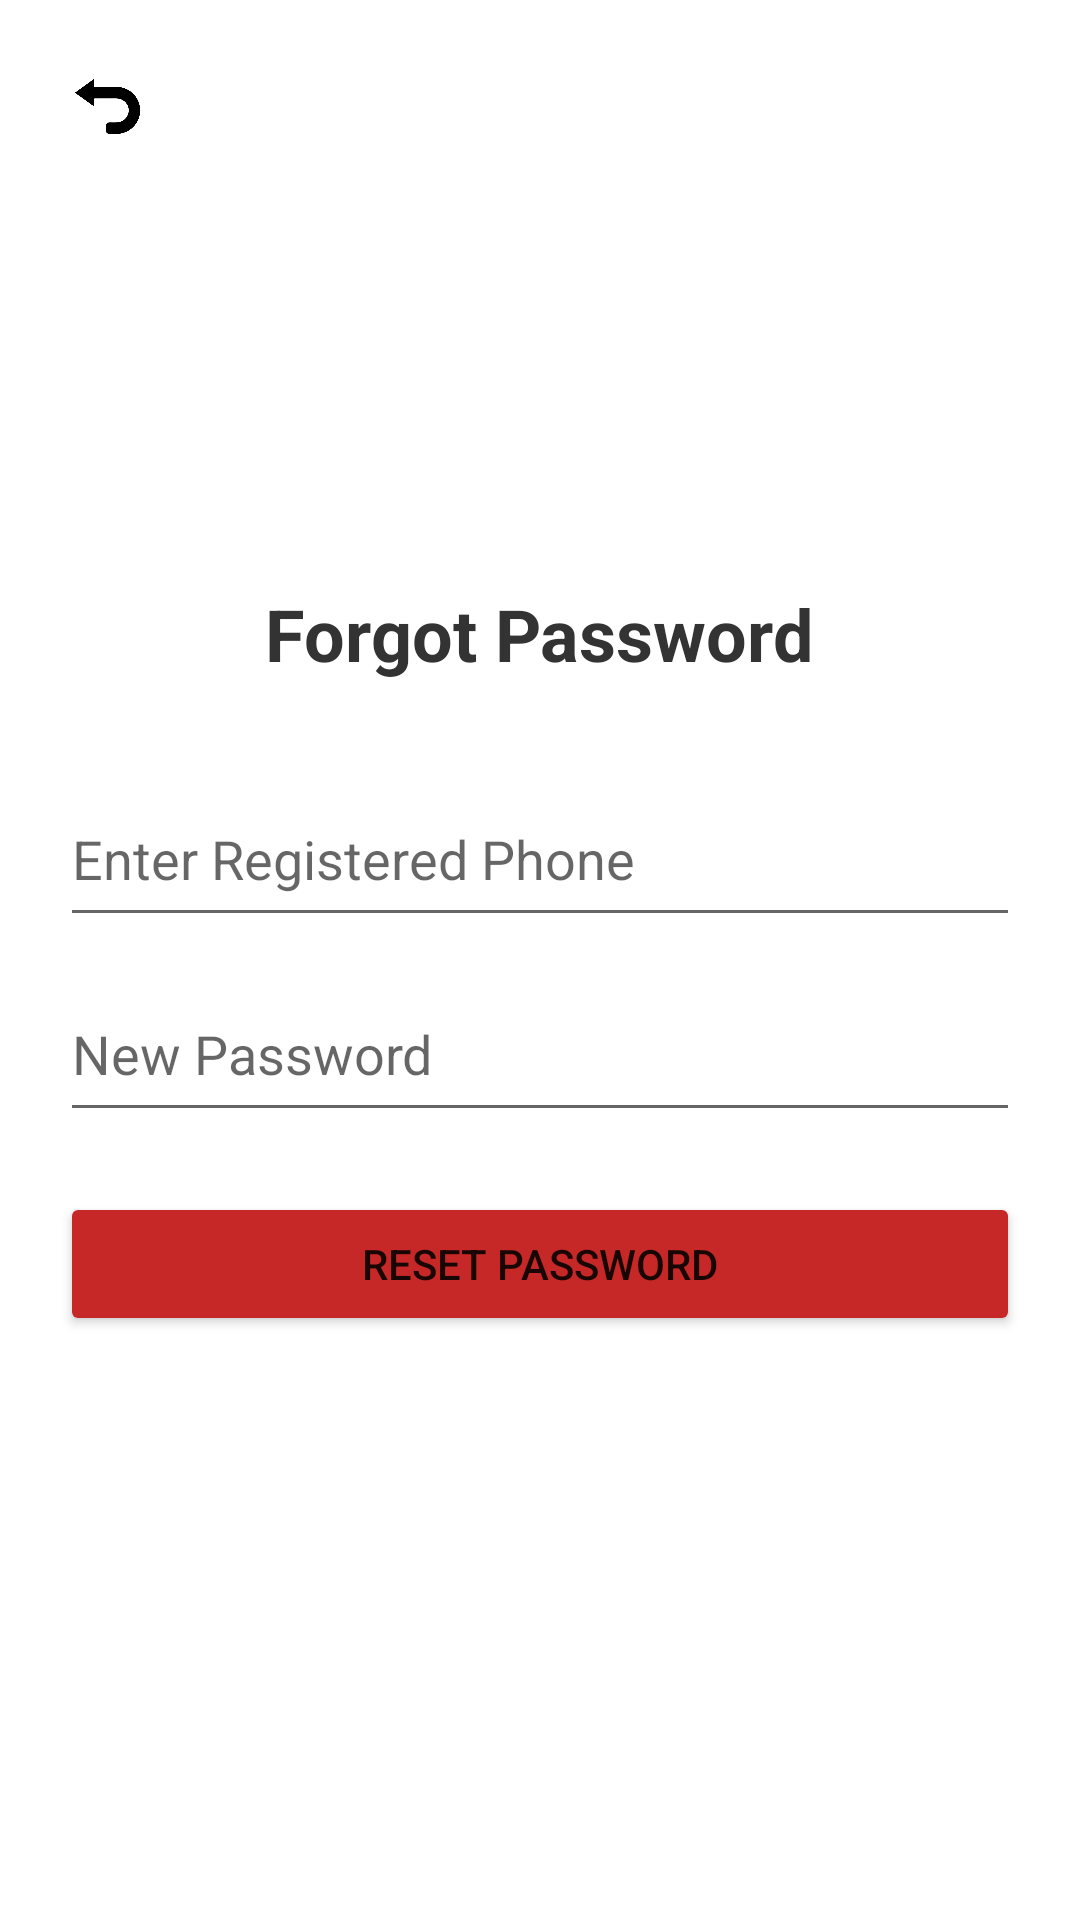

Screen size 1080*1920. Icon name, then its center in pixels as (x=x, y=y):
Back Button: (x=107, y=106)
